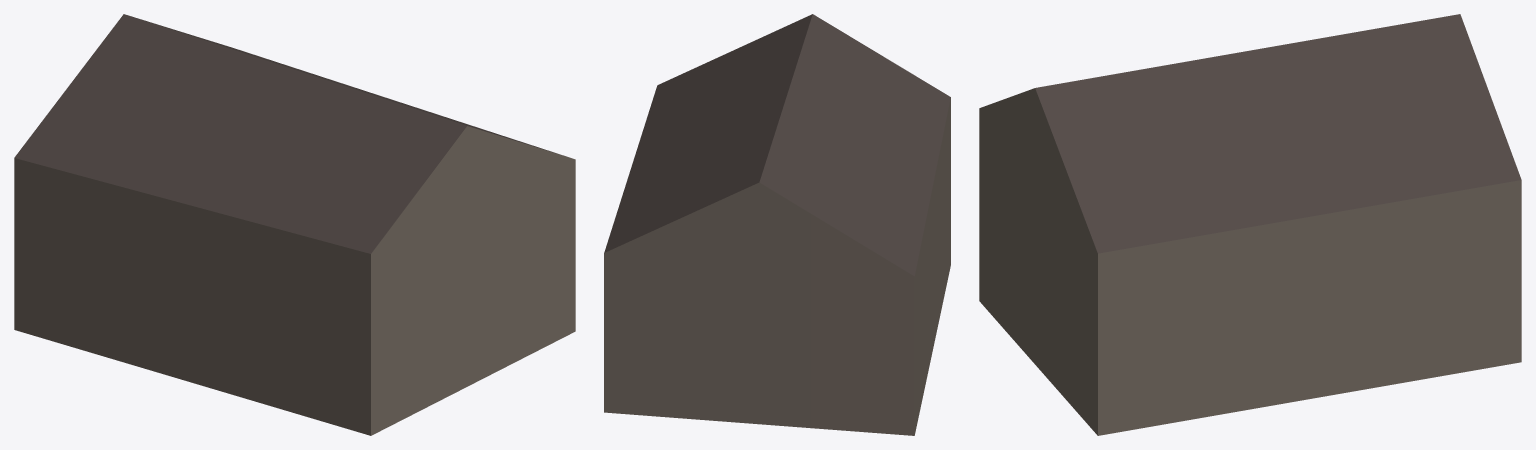
3 views of the same model, side by side, from view 1: azimuth 30°, elevation 25°; view 2: azimuth 150°, elevation 25°; view 3: azimuth 270°, elevation 25° (orthographic). The views are drawn at different scales.
Visible parts, largest first — view 1: HP-w1198664273; view 2: HP-w1198664273; view 3: HP-w1198664273.
Part boxes in pixels (bbox=[...]): HP-w1198664273: bbox=[14, 14, 575, 435]; HP-w1198664273: bbox=[604, 14, 950, 435]; HP-w1198664273: bbox=[979, 14, 1521, 435].
Bounding box in the file's own units: 15.32 × 9.1 × 16.18.
